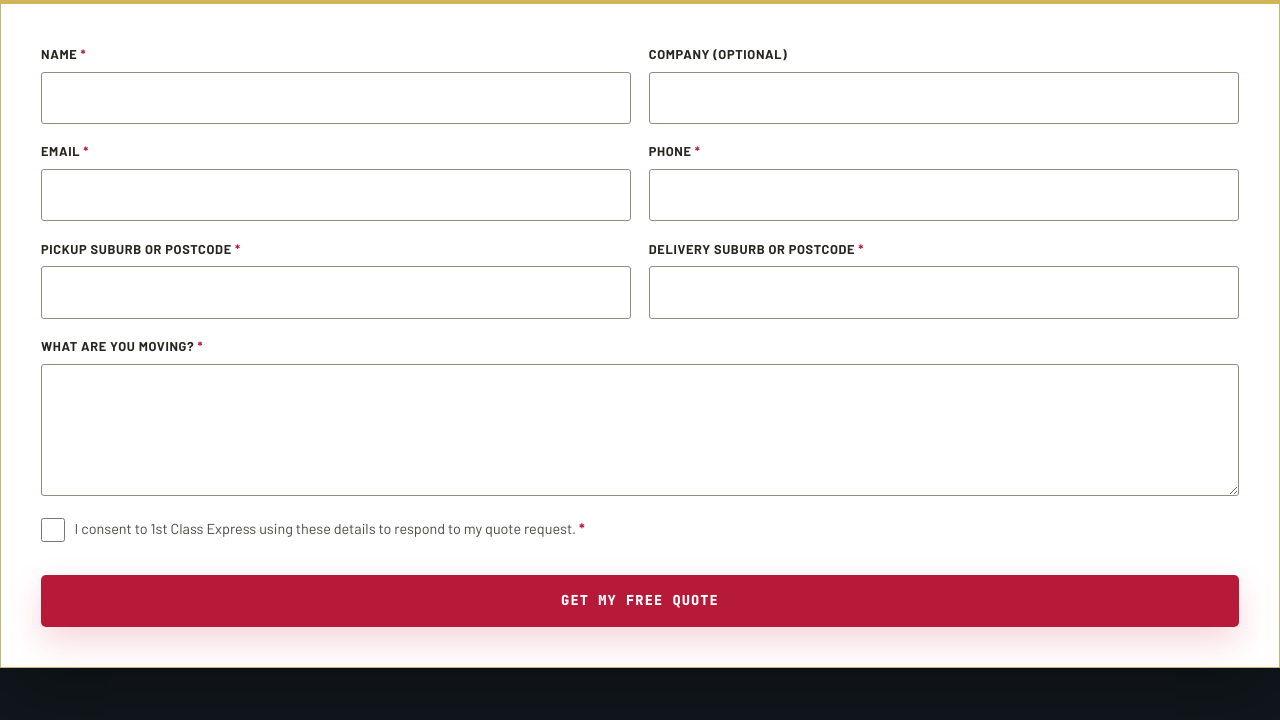
validation resolver boundary › lets a complete, consented quote through to the submit adapter
Type "Alex Taylor" into the field labelled "Name".
click(336, 98); type("Alex Taylor")  # box [41,72,631,124]
Type "alex@example.com" into the field labelled "Email".
click(336, 195); type("alex@example.com")  # box [41,169,631,221]
Type "0400000000" into the field labelled "Phone".
click(944, 195); type("0400000000")  # box [649,169,1239,221]
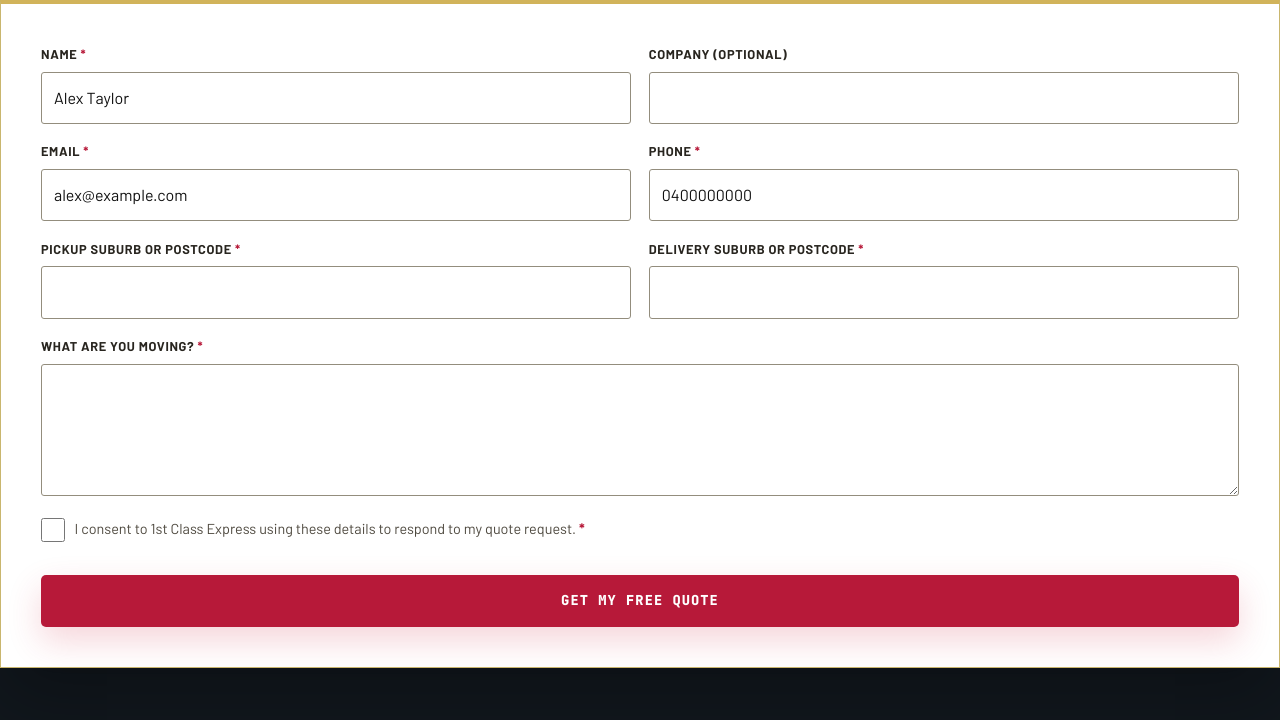
Type "Sydney 2000" into the field labelled "Pickup suburb or postcode *".
click(336, 293); type("Sydney 2000")  # box [41,266,631,319]
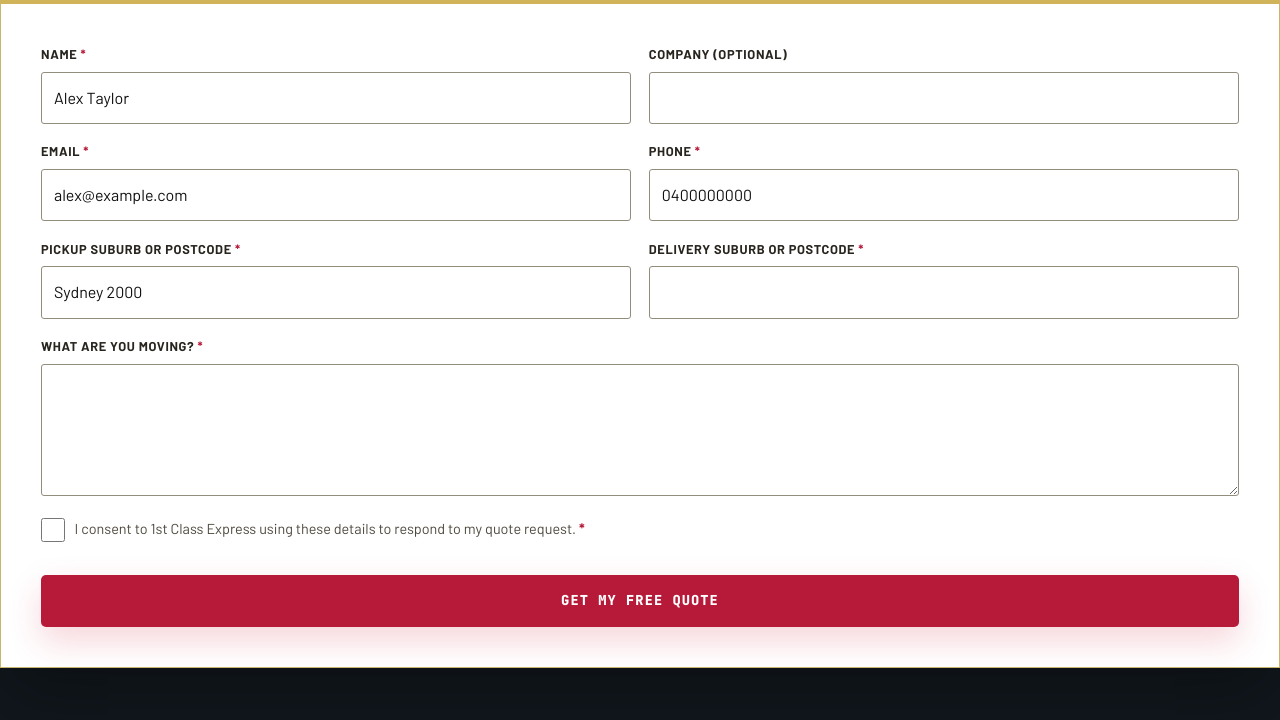
Type "Melbourne 3000" into the field labelled "Delivery suburb or postcode *".
click(944, 293); type("Melbourne 3000")  # box [649,266,1239,319]
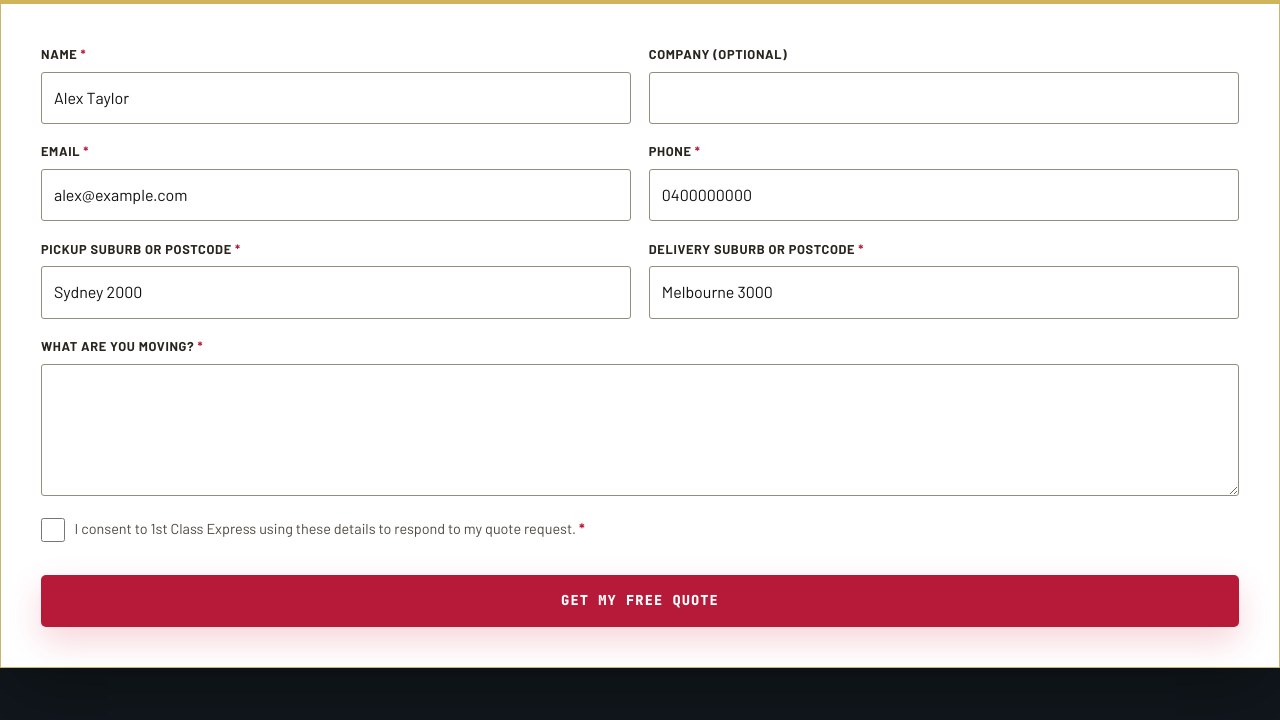
Type "Two pallets of packaged goods, forklift access both ends." into the text box labelled "What are you moving? *".
click(640, 430); type("Two pallets of packaged goods, forklift access both ends.")  # box [41,364,1239,496]
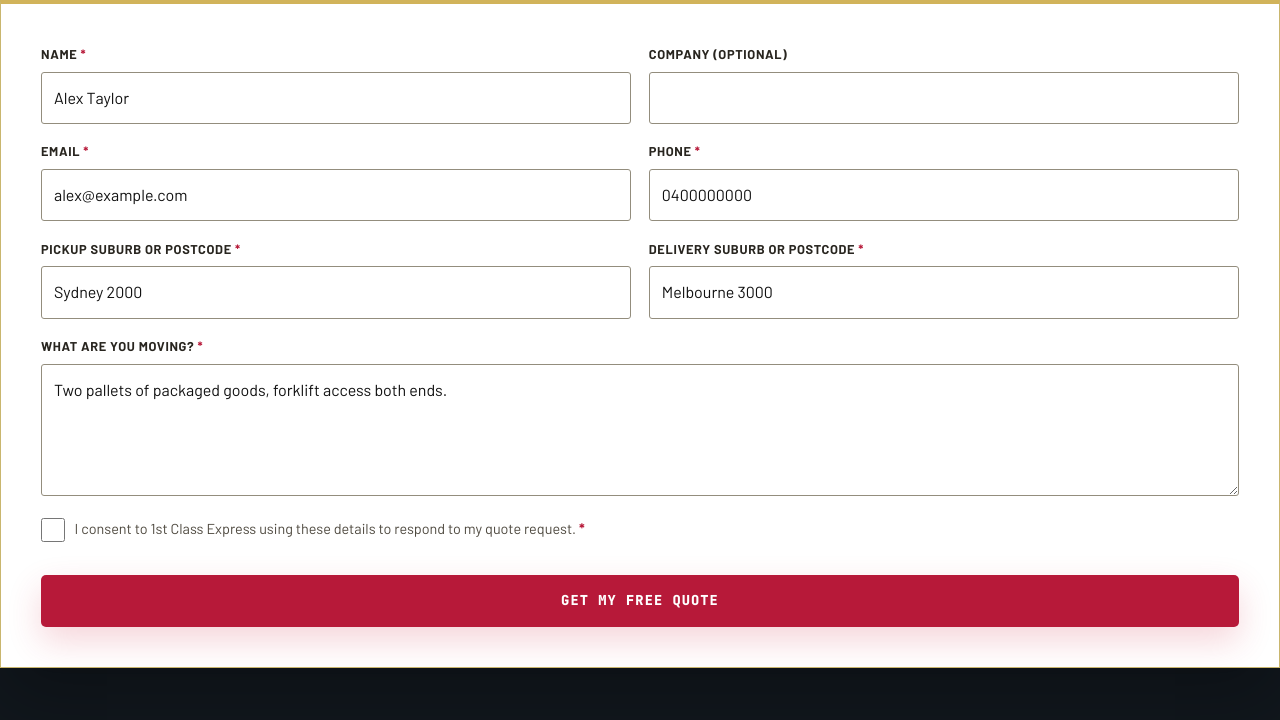
Click the checkbox.
click(53, 530)  # box [41,518,65,542]
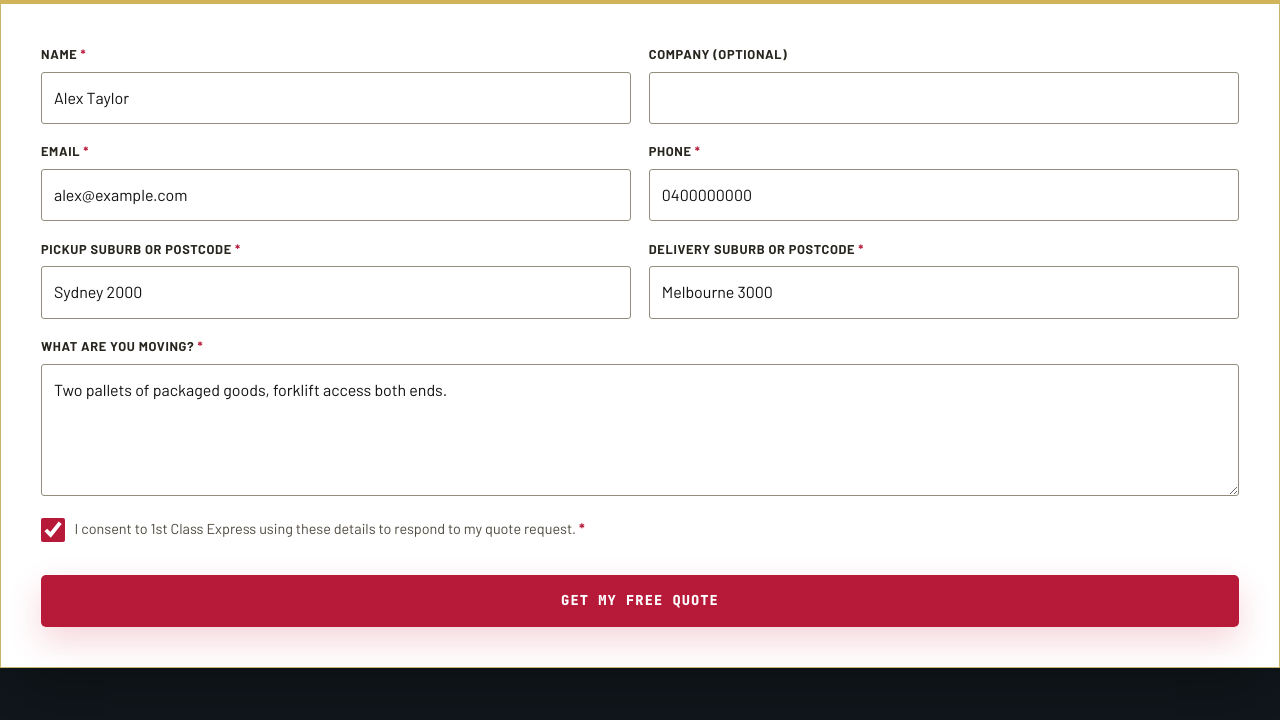
Click the button "Get My Free Quote".
click(640, 601)  # box [41,575,1239,627]
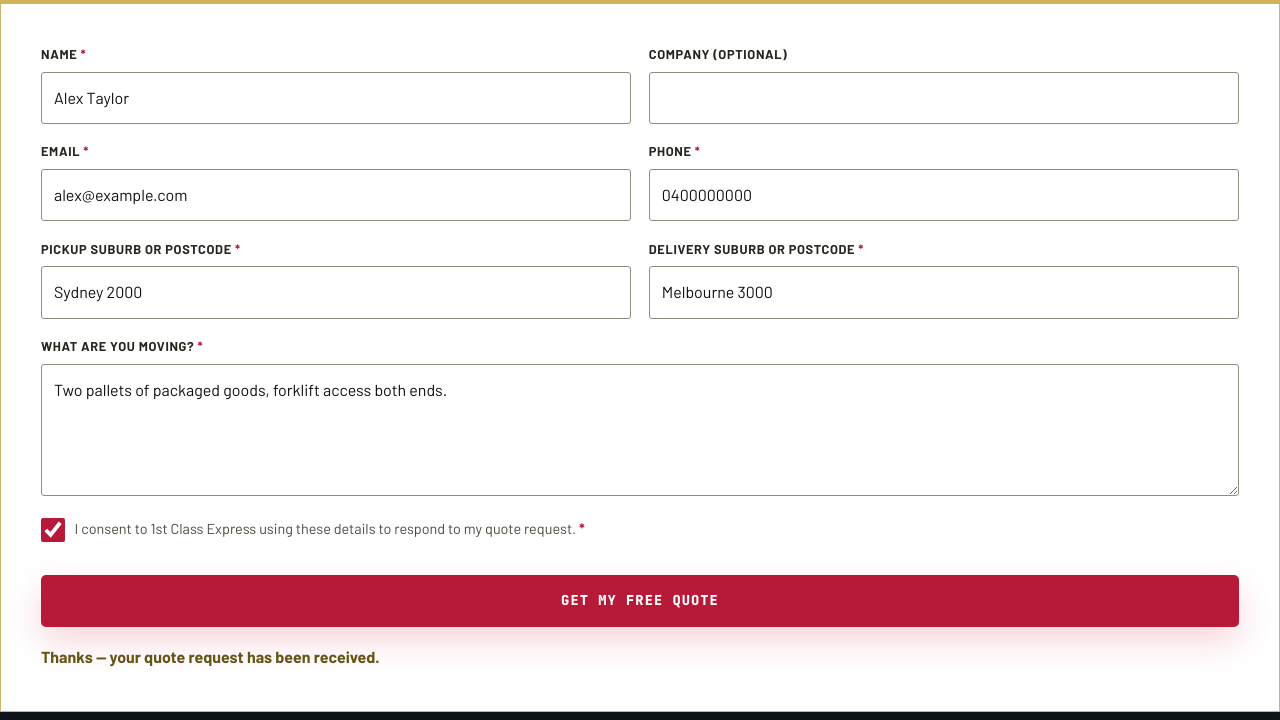
Now the text "Thanks — your quote request has been received." is shown, box [41,647,380,666]
